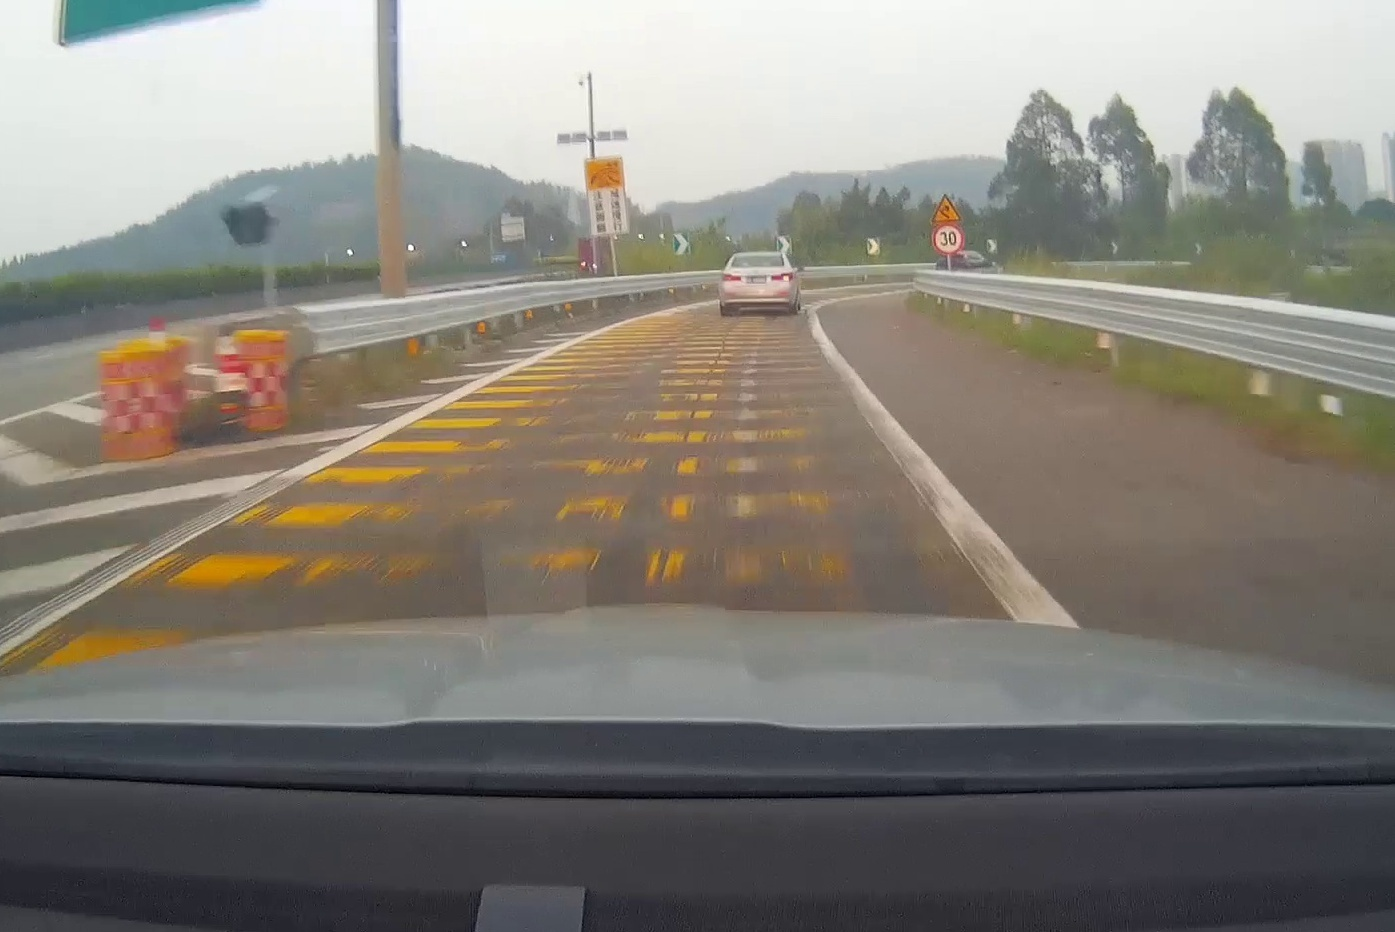L_light: (721, 273, 741, 281)
R_light: (771, 271, 792, 281)
T_light: (752, 256, 763, 259)
day-right: (718, 252, 794, 317)
